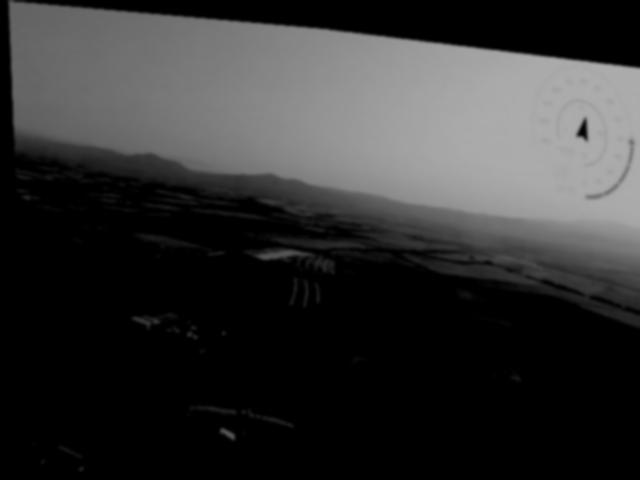hedef: (169, 379, 297, 460)
